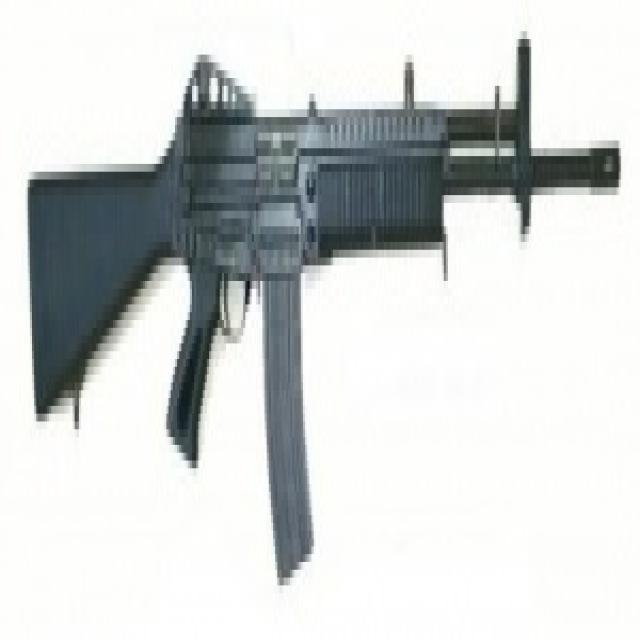rifle: (24, 42, 625, 602)
